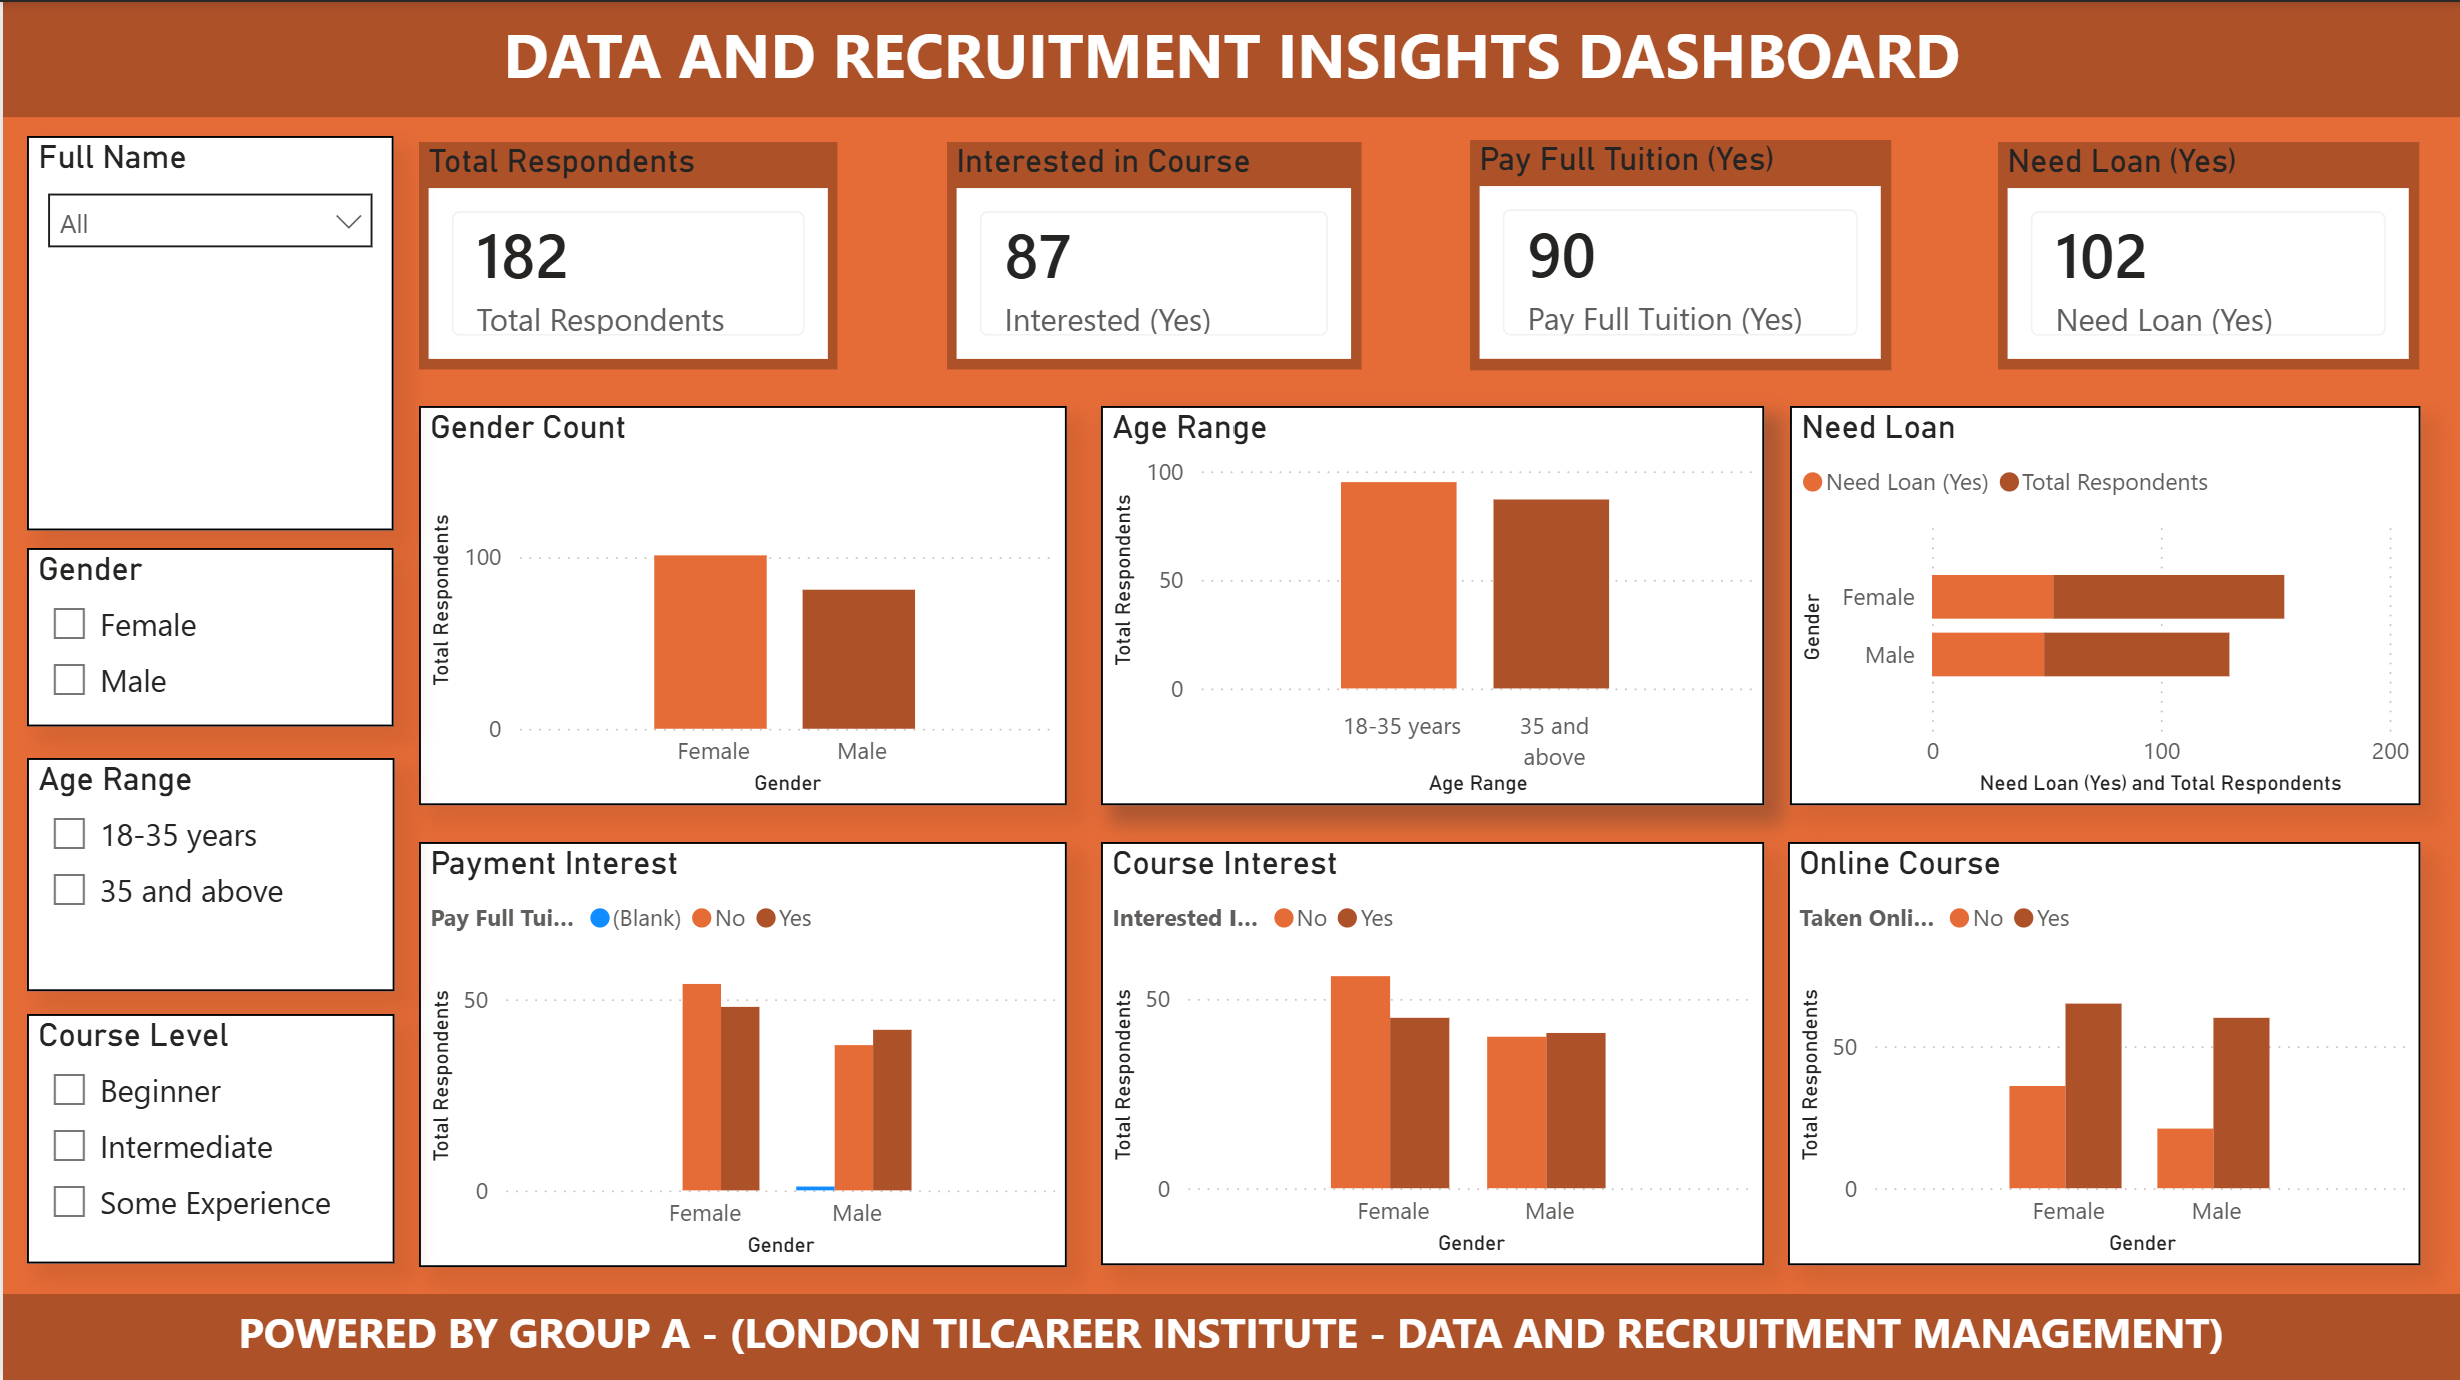

The dashboard page shown, as its layout file describes it:
{"tool":"powerbi","page":{"name":"Page 1","canvas":[1280,720],"ordinal":0},"visuals":[{"type":"textbox","box":[0,0,1280,59.9],"z":0},{"type":"textbox","box":[0,673.4,1280,53.4],"z":1000},{"type":"cardVisual","title":"Total Respondents","fields":{"Data":["RESOURCE DATA.Total Respondents"]},"box":[216.7,72.7,218,118.6],"z":2000},{"type":"cardVisual","title":"Interested in Course","fields":{"Data":["RESOURCE DATA.Interested (Yes)"]},"box":[492.1,72.7,215.5,118.6],"z":3000},{"type":"cardVisual","title":"Need Loan (Yes)","fields":{"Data":["RESOURCE DATA.Need Loan (Yes)"]},"box":[1039,72.7,219.3,118.6],"z":4000},{"type":"cardVisual","title":"Pay Full Tuition (Yes)","fields":{"Data":["RESOURCE DATA.Pay Full Tuition (Yes)"]},"box":[763.7,71.4,219.3,119.8],"z":5000},{"type":"clusteredColumnChart","title":"Gender Count","fields":{"Category":["RESOURCE DATA.Gender"],"Y":["RESOURCE DATA.Total Respondents"]},"box":[217,210.4,337.3,208.1],"z":6000},{"type":"clusteredColumnChart","title":"Age Range","fields":{"Category":["RESOURCE DATA.Age Range"],"Y":["RESOURCE DATA.Total Respondents"]},"box":[572.1,210.4,345,208.1],"z":7000},{"type":"barChart","title":"Need Loan","fields":{"Y":["RESOURCE DATA.Need Loan (Yes)","RESOURCE DATA.Total Respondents"],"Category":["RESOURCE DATA.Gender"]},"box":[930.5,210.4,328.3,208.1],"z":8000},{"type":"clusteredColumnChart","title":"Payment Interest","fields":{"Category":["RESOURCE DATA.Gender"],"Series":["RESOURCE DATA.Pay Full Tuition"],"Y":["RESOURCE DATA.Total Respondents"]},"box":[217,437.4,337.3,221.5],"z":9000},{"type":"clusteredColumnChart","title":"Course Interest","fields":{"Category":["RESOURCE DATA.Gender"],"Series":["RESOURCE DATA.Interested In Course"],"Y":["RESOURCE DATA.Total Respondents"]},"box":[572.1,437.4,345,220.4],"z":10000},{"type":"clusteredColumnChart","title":"Online Course","fields":{"Category":["RESOURCE DATA.Gender"],"Series":["RESOURCE DATA.Taken Online Course Before"],"Y":["RESOURCE DATA.Total Respondents"]},"box":[929.4,437.4,329.5,220.4],"z":11000},{"type":"slicer","title":"Full Name","fields":{"Values":["RESOURCE DATA.Full Name"]},"box":[12.7,70.1,191.2,205.3],"z":12000},{"type":"slicer","title":"Gender","fields":{"Values":["RESOURCE DATA.Gender"]},"box":[12.7,284.3,191.2,93.1],"z":13000},{"type":"slicer","title":"Age Range","fields":{"Values":["RESOURCE DATA.Age Range"]},"box":[12.2,394,191.4,121.3],"z":14000},{"type":"slicer","title":"Course Level","fields":{"Values":["RESOURCE DATA.Course Level"]},"box":[12.2,527.6,191.4,130.2],"z":15000}]}

Visuals, with their boxes in screenshot pixels (x1, y1, x2, y2), scaled from the page's 1280x720 canvas onto the 2460x1380 screenshot:
textbox: (x1=0, y1=0, x2=2459, y2=115)
textbox: (x1=0, y1=1291, x2=2459, y2=1379)
"Total Respondents" cardVisual: (x1=416, y1=139, x2=835, y2=367)
"Interested in Course" cardVisual: (x1=946, y1=139, x2=1360, y2=367)
"Need Loan (Yes)" cardVisual: (x1=1997, y1=139, x2=2418, y2=367)
"Pay Full Tuition (Yes)" cardVisual: (x1=1468, y1=137, x2=1889, y2=366)
"Gender Count" clusteredColumnChart: (x1=417, y1=403, x2=1065, y2=802)
"Age Range" clusteredColumnChart: (x1=1100, y1=403, x2=1763, y2=802)
"Need Loan" barChart: (x1=1788, y1=403, x2=2419, y2=802)
"Payment Interest" clusteredColumnChart: (x1=417, y1=838, x2=1065, y2=1263)
"Course Interest" clusteredColumnChart: (x1=1100, y1=838, x2=1763, y2=1261)
"Online Course" clusteredColumnChart: (x1=1786, y1=838, x2=2419, y2=1261)
"Full Name" slicer: (x1=24, y1=134, x2=392, y2=528)
"Gender" slicer: (x1=24, y1=545, x2=392, y2=723)
"Age Range" slicer: (x1=23, y1=755, x2=391, y2=988)
"Course Level" slicer: (x1=23, y1=1011, x2=391, y2=1261)
